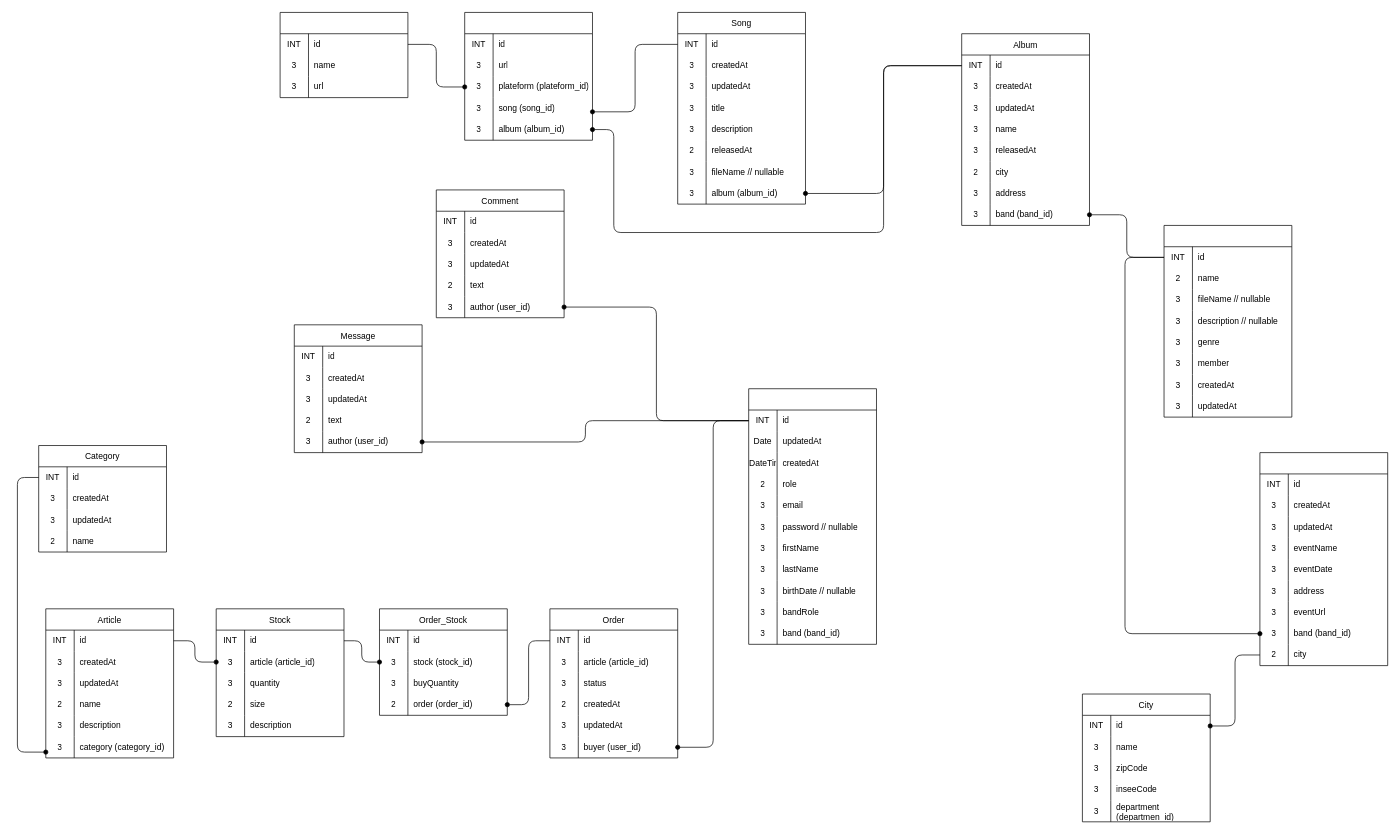
This 1400x834 diagram has some shape labels left out. Each missing label, with the box of its shape:
Band: (1163, 225, 1292, 417)
Item_Plateform: (464, 12, 592, 140)
Live: (1259, 452, 1388, 666)
Plateform: (279, 12, 408, 98)
User: (748, 388, 876, 644)
